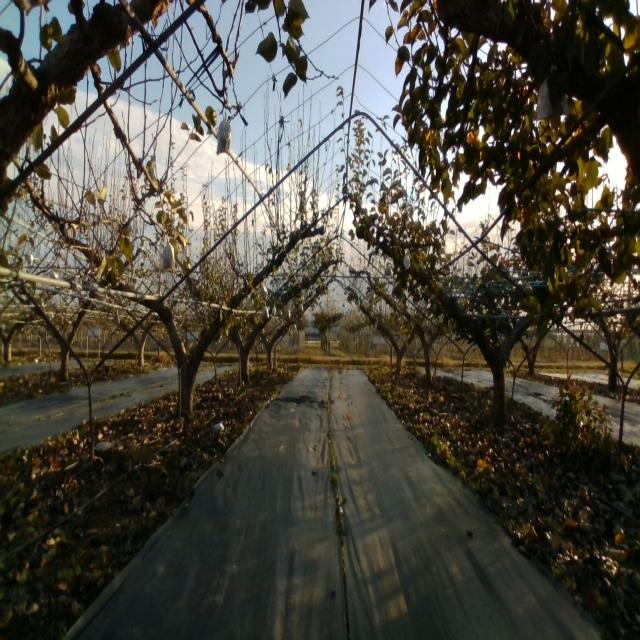pearbags: (214, 112, 232, 154), (160, 234, 176, 272)
